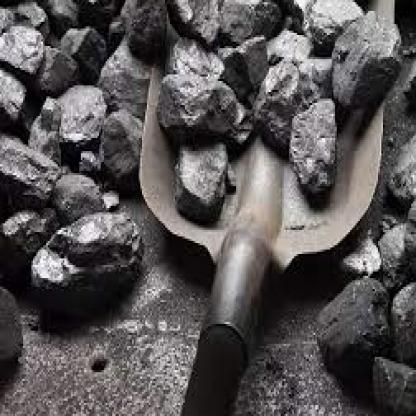Sedimentary_coal: (36, 202, 146, 302), (335, 4, 403, 101), (157, 72, 256, 136), (290, 86, 338, 190), (41, 79, 109, 151), (178, 136, 236, 214), (2, 131, 71, 195), (1, 202, 50, 281), (127, 0, 173, 66), (52, 166, 110, 217), (230, 30, 272, 90), (2, 285, 24, 392), (2, 20, 46, 70), (2, 76, 28, 124)
